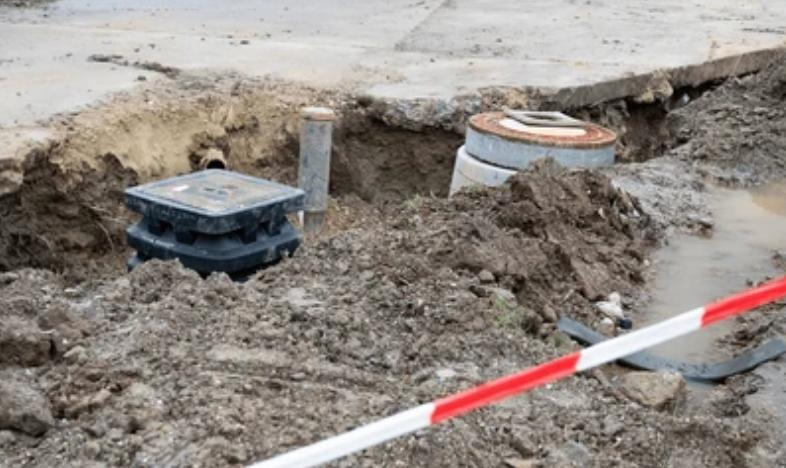water accumulation: (594, 182, 786, 387)
